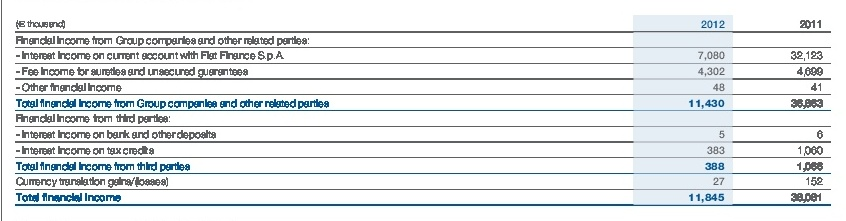table: (0, 0, 846, 221)
